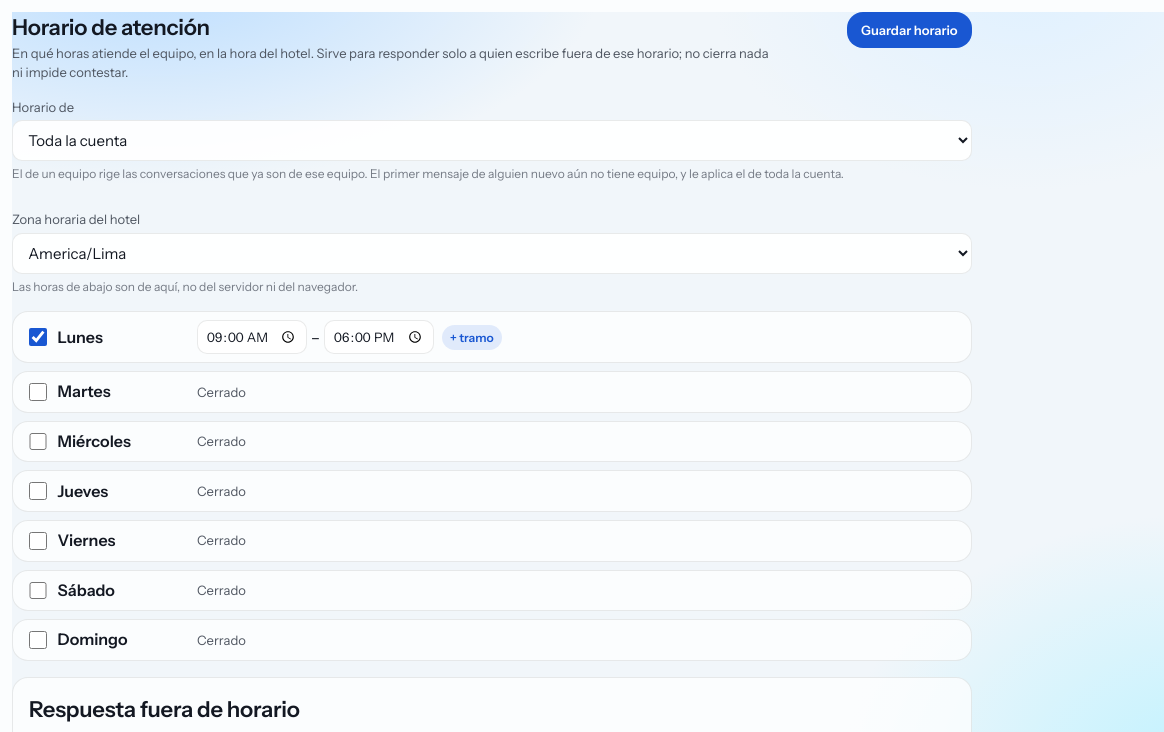
Scenario: Ajustes → Horario · por equipo › con horario propio ofrece volver al general
Select "Reservas · horario propio" in the dropdown labelled "Horario de" at (492, 141), box [12,120,972,161]
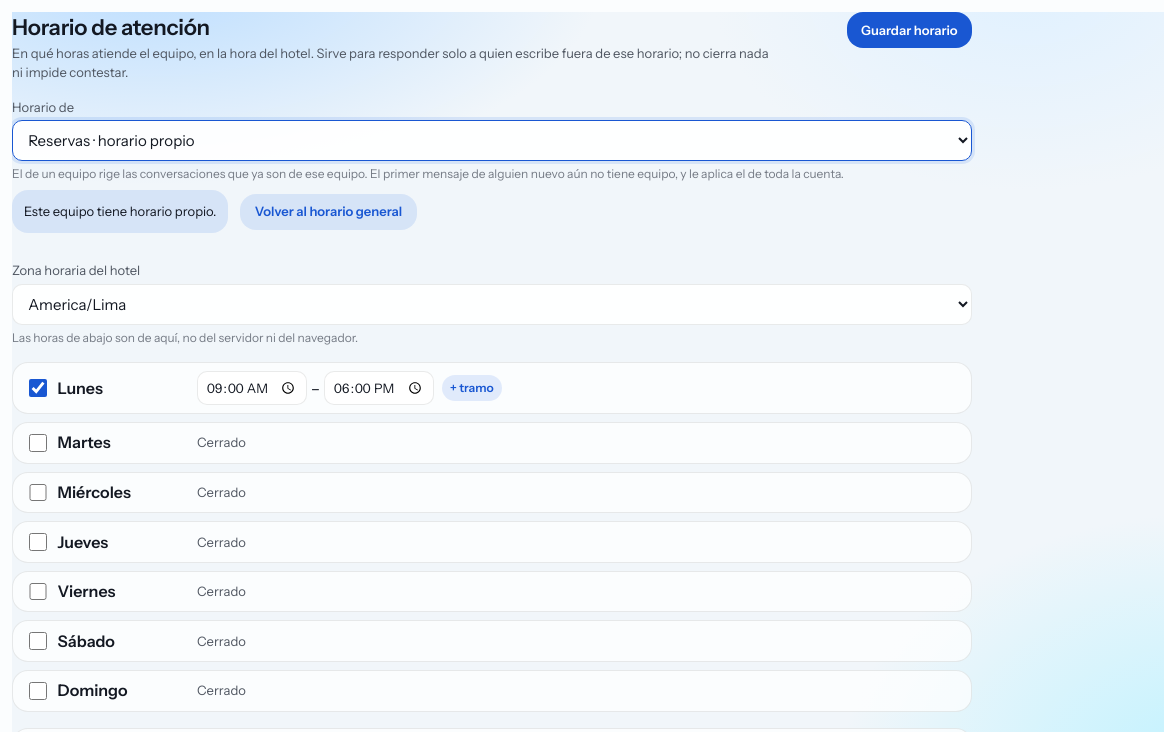
Click the button "Volver al horario general" at (328, 212), box [240,194,417,230]
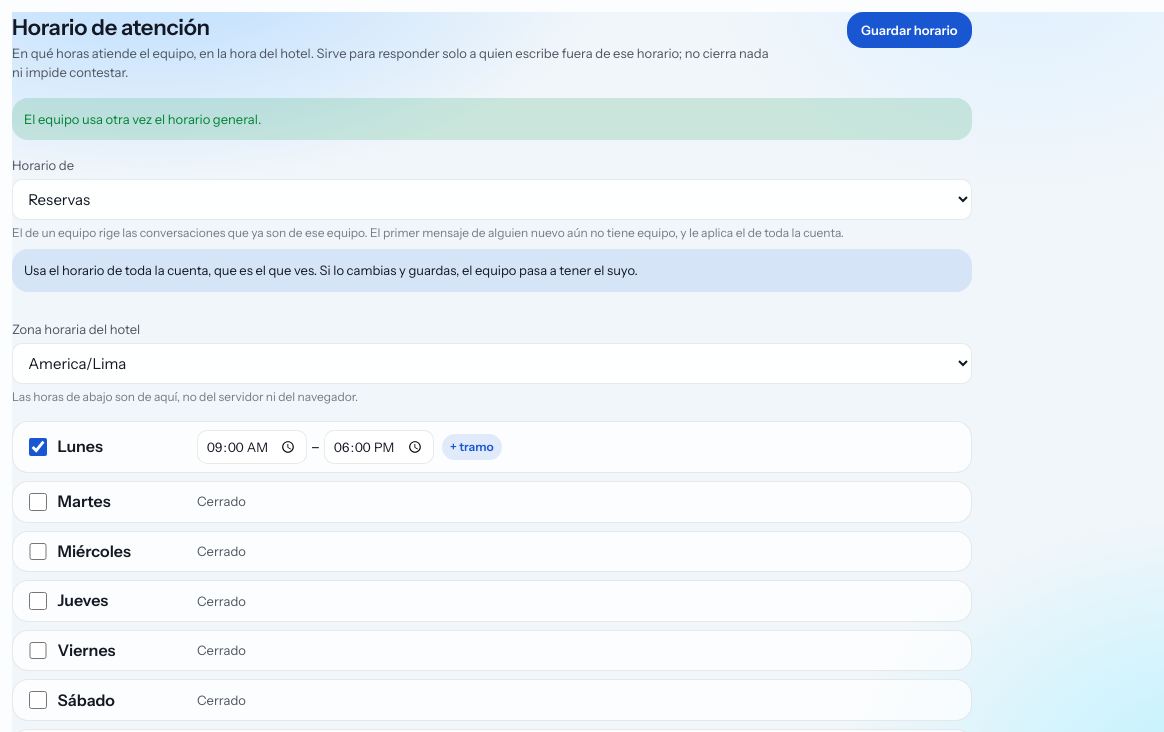
Result: the text "El equipo usa otra vez el horario general." is shown at [12,98,972,140]
